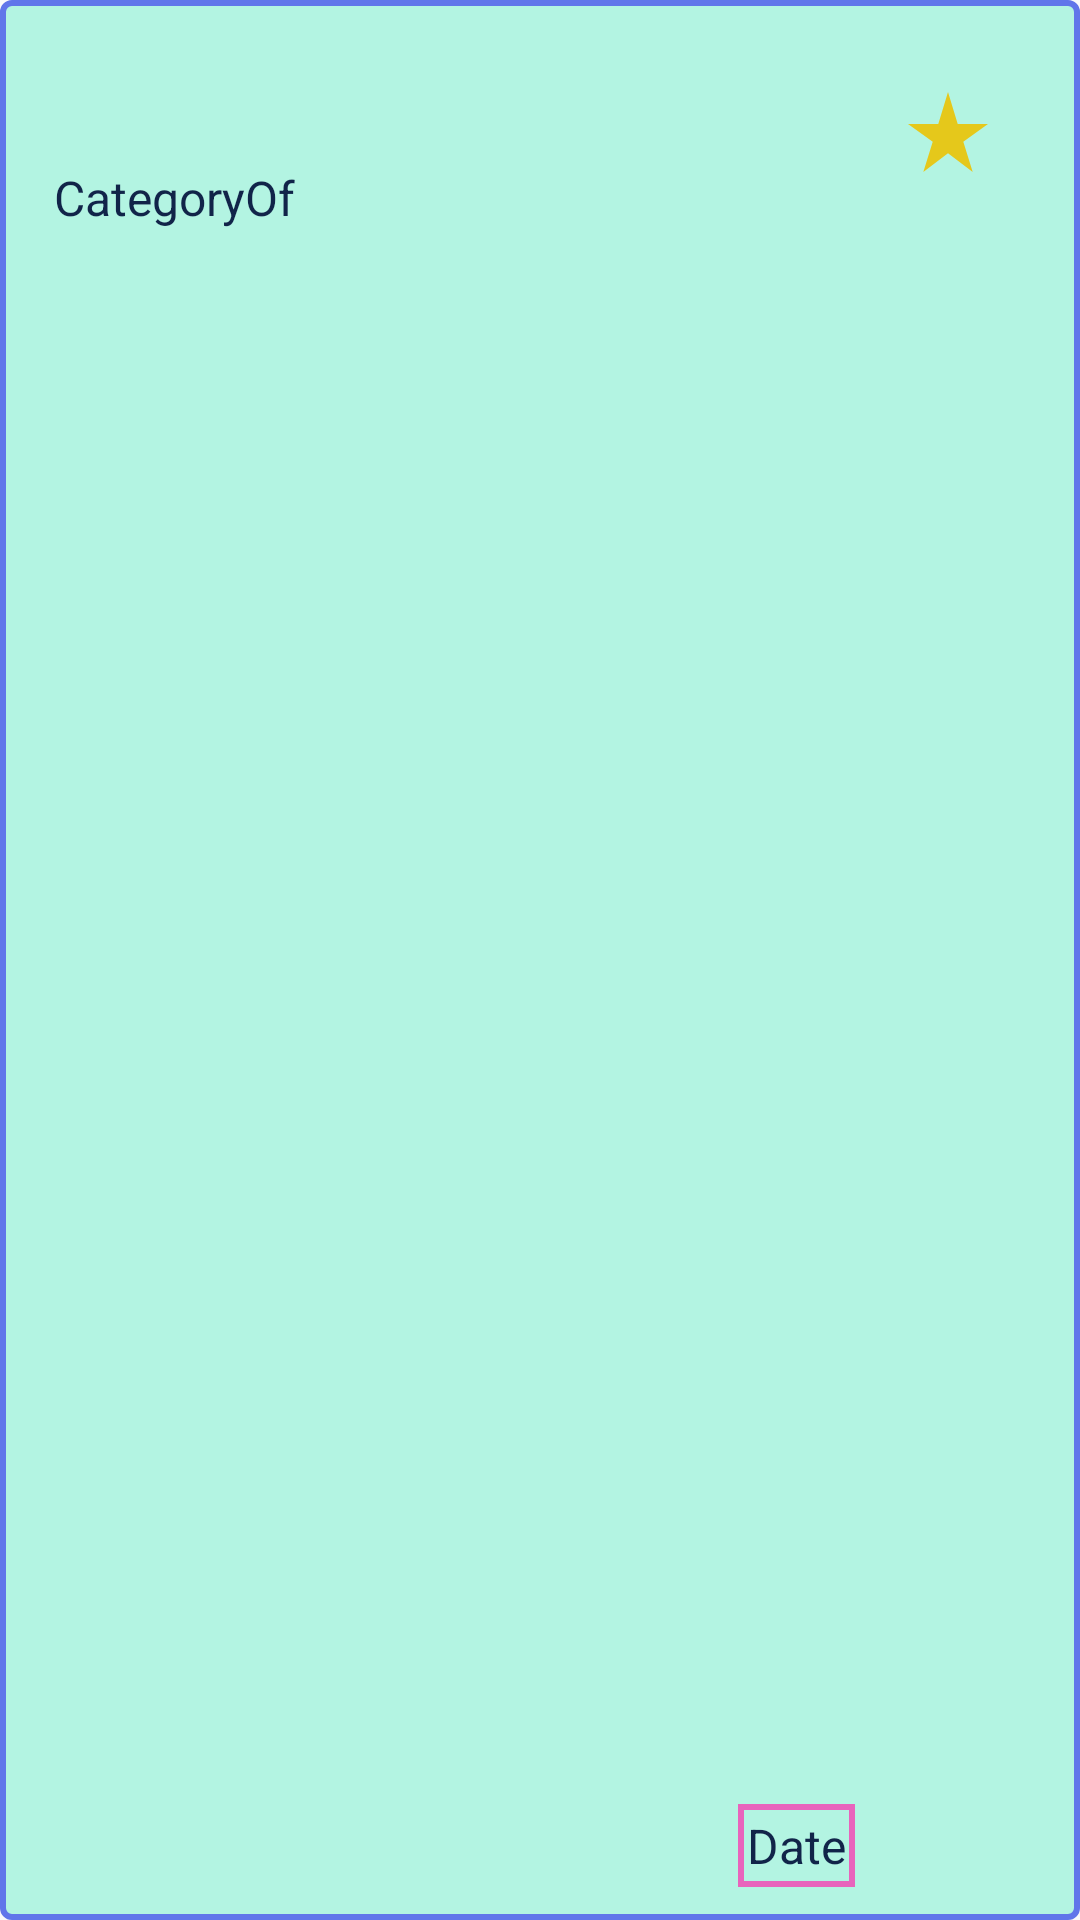

Icons on this 1080px×1920px Android screen, each with the point to tap as [x,y]:
Favourite star: [948,132]
